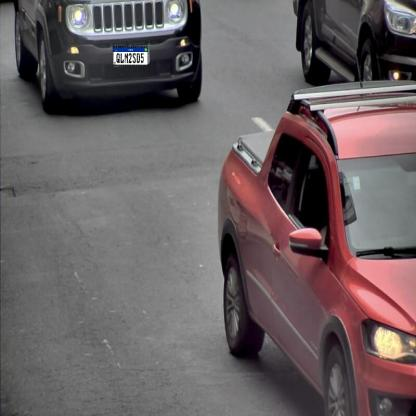PlacaM: (113, 46, 148, 66)
